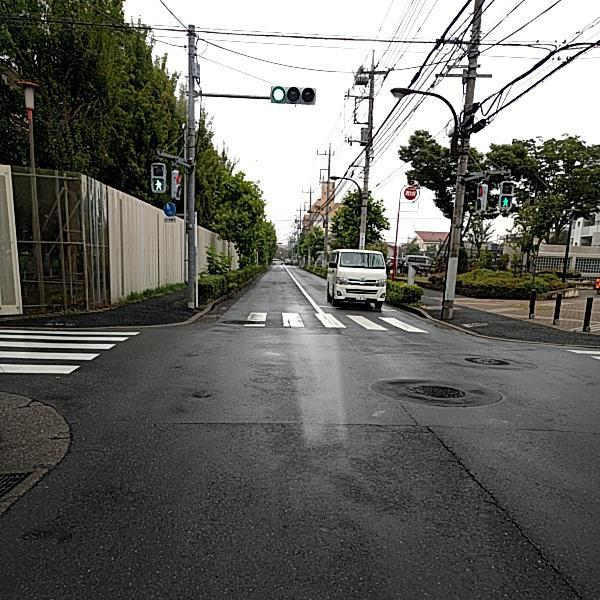D50: (404, 381, 469, 400), (463, 352, 512, 368)
